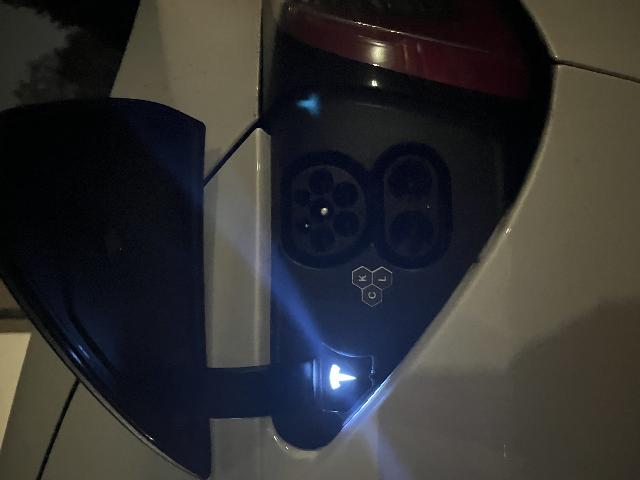inlet: (224, 291, 315, 366)
inlet-above-left: (245, 295, 264, 312)
inlet-above-right: (274, 294, 292, 310)
inlet-below-left: (243, 334, 270, 359)
inlet-below-right: (273, 332, 297, 358)
inlet-circle: (255, 309, 281, 334)
inlet-circle-left: (227, 309, 254, 335)
inlet-circle-right: (285, 308, 311, 333)
inlet-minus: (276, 387, 320, 432)
inlet-plus: (227, 389, 270, 434)
